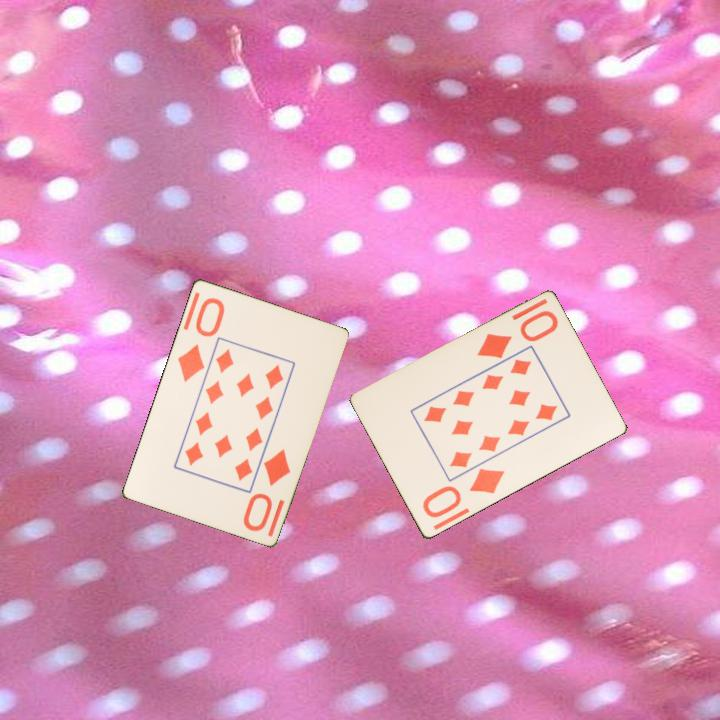10d: (419, 465, 508, 522), (173, 293, 228, 385), (473, 307, 561, 362), (240, 445, 294, 534)
